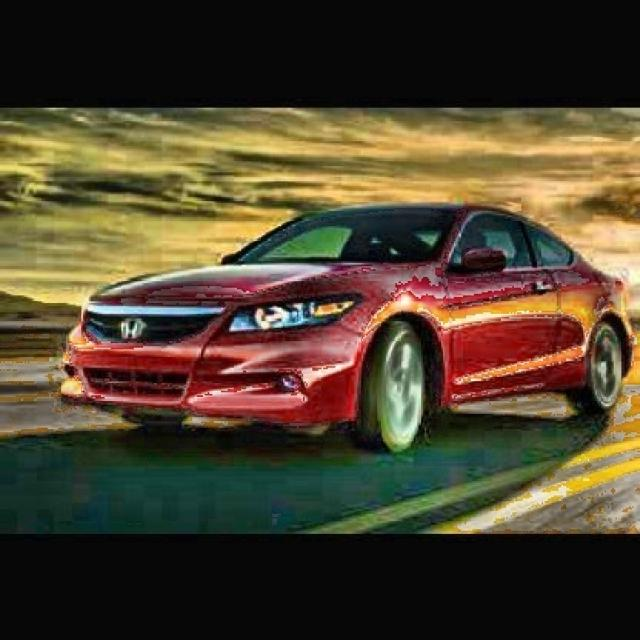maroon: (78, 189, 640, 436)
